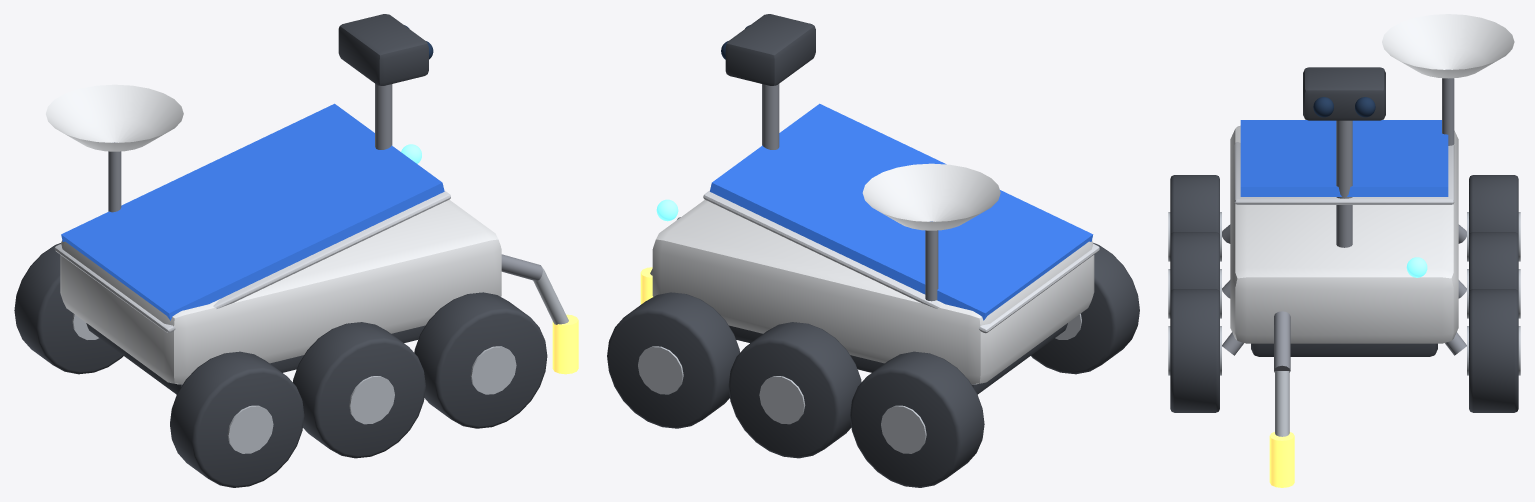
The model's file is rover.glb.
3 views of the same model, side by side, from view 1: azimuth 30°, elevation 25°; view 2: azimuth 150°, elevation 25°; view 3: azimuth 270°, elevation 25° (orthographic). The views are drawn at different scales.
Visible parts, largest first — view 1: solar, chassis, wheel, wheel.004, wheel.002, dish, wheel.001, cam_head, panel_frame, hub.004, hub, hub.002 (+6 smaller); view 2: chassis, solar, wheel.001, wheel.005, wheel.003, dish, wheel, cam_head, panel_frame, hub.005, hub.001, hub.003 (+3 smaller); view 3: chassis, solar, dish, wheel.004, wheel.005, cam_head, wheel, wheel.001, wheel.002, wheel.003, panel_frame, belly (+5 smaller).
Boxes of the visible parts, x1=… form: solar: x1=61, y1=103, x2=444, y2=320; chassis: x1=60, y1=199, x2=501, y2=384; wheel: x1=170, y1=351, x2=304, y2=487; wheel.004: x1=414, y1=292, x2=547, y2=428; wheel.002: x1=293, y1=322, x2=425, y2=458; dish: x1=46, y1=84, x2=183, y2=151; wheel.001: x1=14, y1=243, x2=123, y2=374; cam_head: x1=338, y1=14, x2=428, y2=85; panel_frame: x1=54, y1=190, x2=450, y2=333; hub.004: x1=470, y1=346, x2=516, y2=394; hub: x1=227, y1=405, x2=273, y2=453; hub.002: x1=349, y1=376, x2=394, y2=424; chassis: x1=652, y1=200, x2=1094, y2=384; solar: x1=710, y1=103, x2=1093, y2=320; wheel.001: x1=850, y1=351, x2=984, y2=487; wheel.005: x1=607, y1=292, x2=739, y2=428; wheel.003: x1=728, y1=322, x2=861, y2=458; dish: x1=862, y1=163, x2=1000, y2=230; wheel: x1=1031, y1=243, x2=1139, y2=374; cam_head: x1=725, y1=14, x2=815, y2=85; panel_frame: x1=703, y1=190, x2=1099, y2=333; hub.005: x1=638, y1=346, x2=683, y2=394; hub.001: x1=881, y1=405, x2=926, y2=453; hub.003: x1=759, y1=376, x2=805, y2=424; chassis: x1=1230, y1=125, x2=1458, y2=343; solar: x1=1240, y1=120, x2=1448, y2=196; dish: x1=1382, y1=14, x2=1514, y2=78; wheel.004: x1=1170, y1=289, x2=1219, y2=412; wheel.005: x1=1469, y1=289, x2=1518, y2=412; cam_head: x1=1303, y1=67, x2=1385, y2=120; wheel: x1=1170, y1=175, x2=1219, y2=235; wheel.001: x1=1469, y1=175, x2=1518, y2=235; wheel.002: x1=1170, y1=232, x2=1219, y2=292; wheel.003: x1=1469, y1=232, x2=1518, y2=292; panel_frame: x1=1234, y1=142, x2=1454, y2=204; belly: x1=1251, y1=343, x2=1437, y2=356.
Size of the model in its own units: 2.36 by 1.79 by 1.7.
